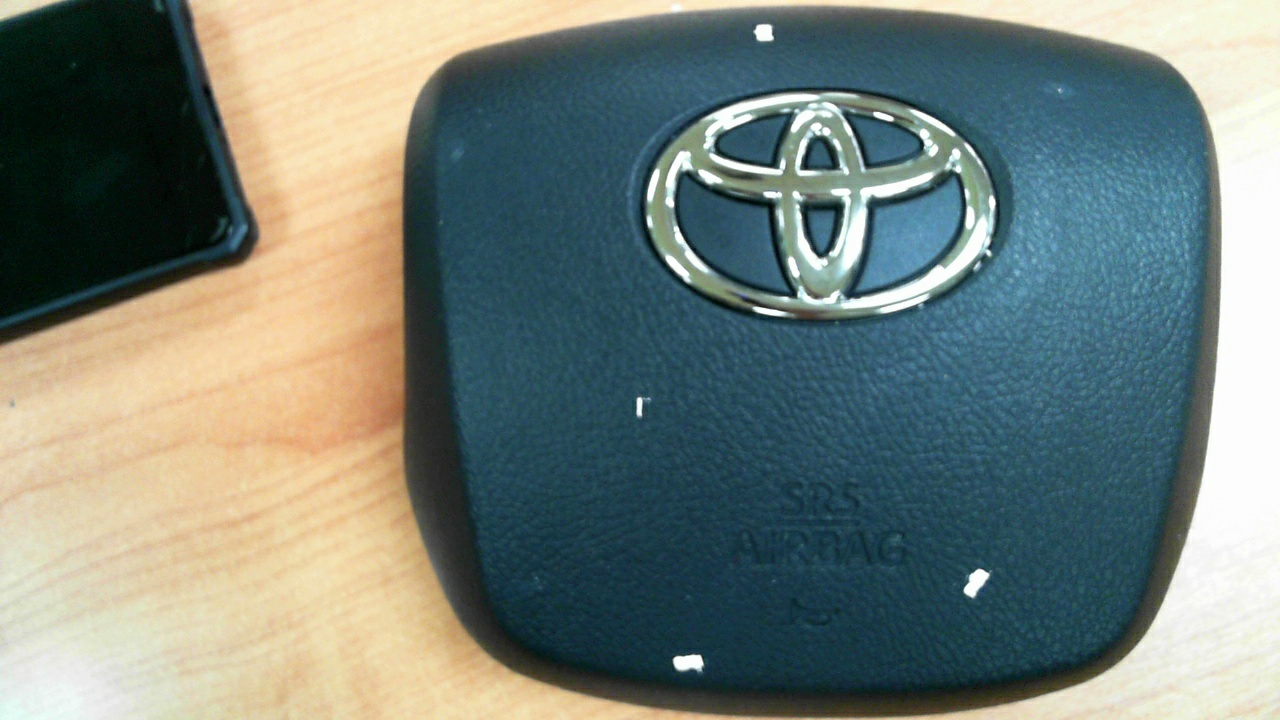Airbag: (385, 0, 1227, 720)
Mark: (962, 567, 991, 600), (671, 653, 705, 673), (752, 23, 774, 42), (635, 396, 651, 417), (1058, 88, 1061, 91)
